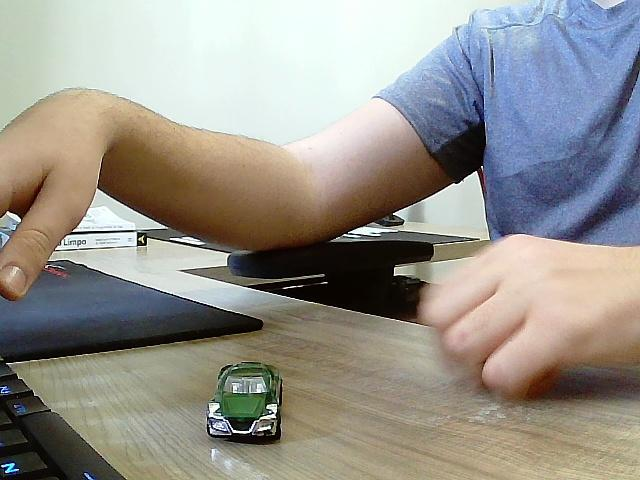Carro: (207, 362, 283, 444)
